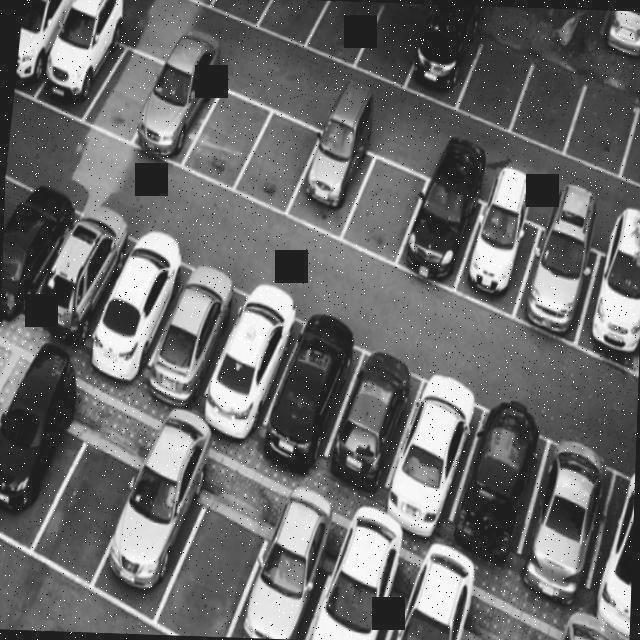space-empty: (43, 418, 136, 603), (161, 497, 269, 639), (184, 71, 270, 194), (339, 139, 423, 264), (237, 94, 321, 219), (91, 35, 162, 147), (456, 33, 537, 126), (564, 69, 636, 171), (509, 57, 581, 147), (361, 2, 432, 82), (307, 0, 376, 63), (261, 0, 327, 51), (211, 0, 281, 28), (627, 83, 640, 181), (161, 0, 233, 9)
space-occupied: (86, 449, 221, 628), (209, 264, 310, 457), (329, 338, 427, 520), (391, 366, 484, 551), (100, 216, 191, 405), (455, 385, 541, 576), (151, 253, 251, 415), (271, 307, 362, 485), (523, 435, 615, 611), (44, 189, 135, 351), (0, 165, 76, 347), (513, 199, 608, 343), (0, 379, 73, 561), (229, 521, 338, 640), (291, 107, 377, 236), (140, 38, 219, 176), (401, 162, 485, 287), (39, 0, 127, 117), (576, 215, 640, 375), (462, 188, 538, 312), (300, 549, 398, 640), (593, 460, 635, 633), (408, 10, 477, 110), (14, 0, 74, 96), (368, 590, 475, 640)
